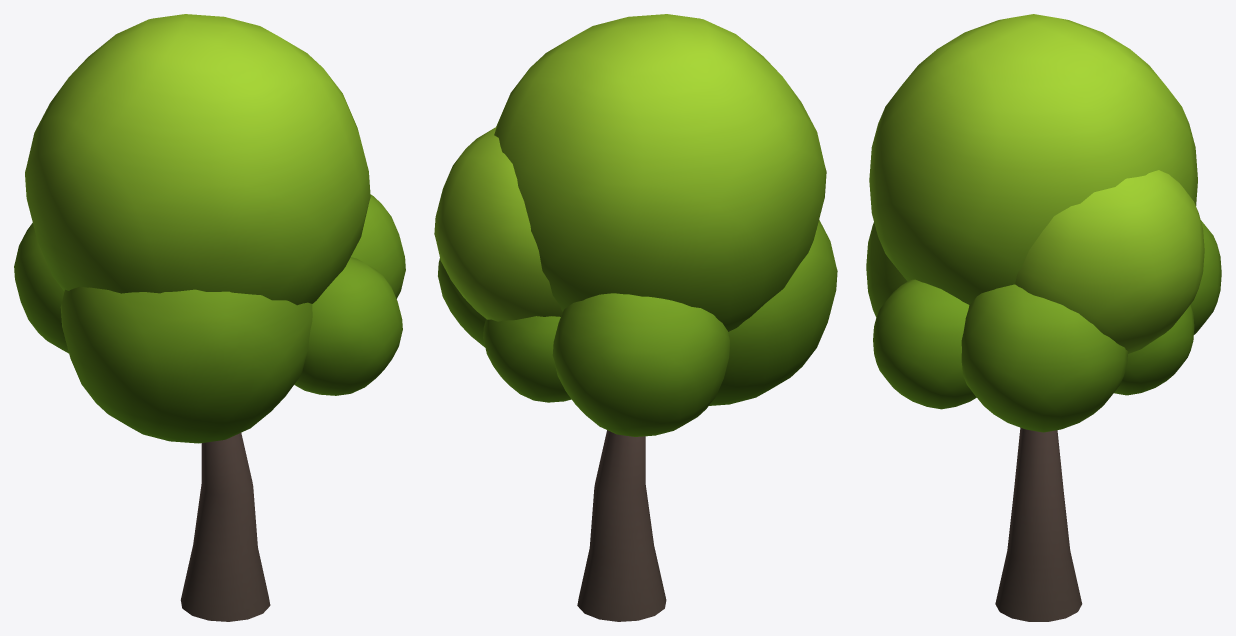
The model's file is Tree.glb.
The picture shows the model from 3 angles, left to right: view 1: azimuth 30°, elevation 25°; view 2: azimuth 150°, elevation 25°; view 3: azimuth 270°, elevation 25°; orthographic projection. The views are drawn at different scales.
Visible parts, largest first — view 1: tree; view 2: tree; view 3: tree.
Boxes of the visible parts, box(x1,y1,x2,y2) form: tree: box(14, 14, 405, 621); tree: box(434, 14, 837, 621); tree: box(866, 14, 1221, 621).
Size of the model in its own units: 4.34 by 7 by 4.05.
Materials: 1 (1 with a texture image).
